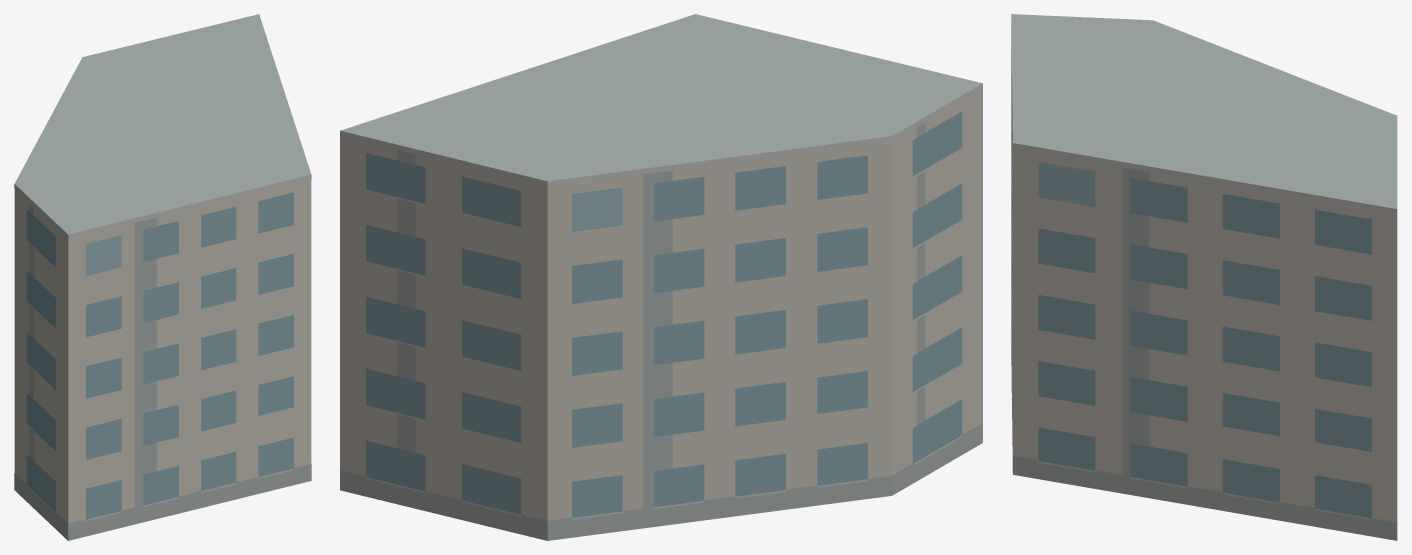
The model's file is residential-22edd906-2d96-4b37-8d58-a993b8def181.glb.
3 views of the same model, side by side, from view 1: azimuth 30°, elevation 25°; view 2: azimuth 150°, elevation 25°; view 3: azimuth 270°, elevation 25° (orthographic). The views are drawn at different scales.
Visible parts, largest first — view 1: residential-22edd906-2d96-4b37-8d58-a993b8def181.tmp; view 2: residential-22edd906-2d96-4b37-8d58-a993b8def181.tmp; view 3: residential-22edd906-2d96-4b37-8d58-a993b8def181.tmp.
Part boxes in pixels (bbox=[...]): residential-22edd906-2d96-4b37-8d58-a993b8def181.tmp: bbox=[14, 14, 311, 540]; residential-22edd906-2d96-4b37-8d58-a993b8def181.tmp: bbox=[340, 14, 982, 540]; residential-22edd906-2d96-4b37-8d58-a993b8def181.tmp: bbox=[1011, 14, 1397, 540].
Size of the model in its own units: 19.25 by 15.25 by 16.11.
